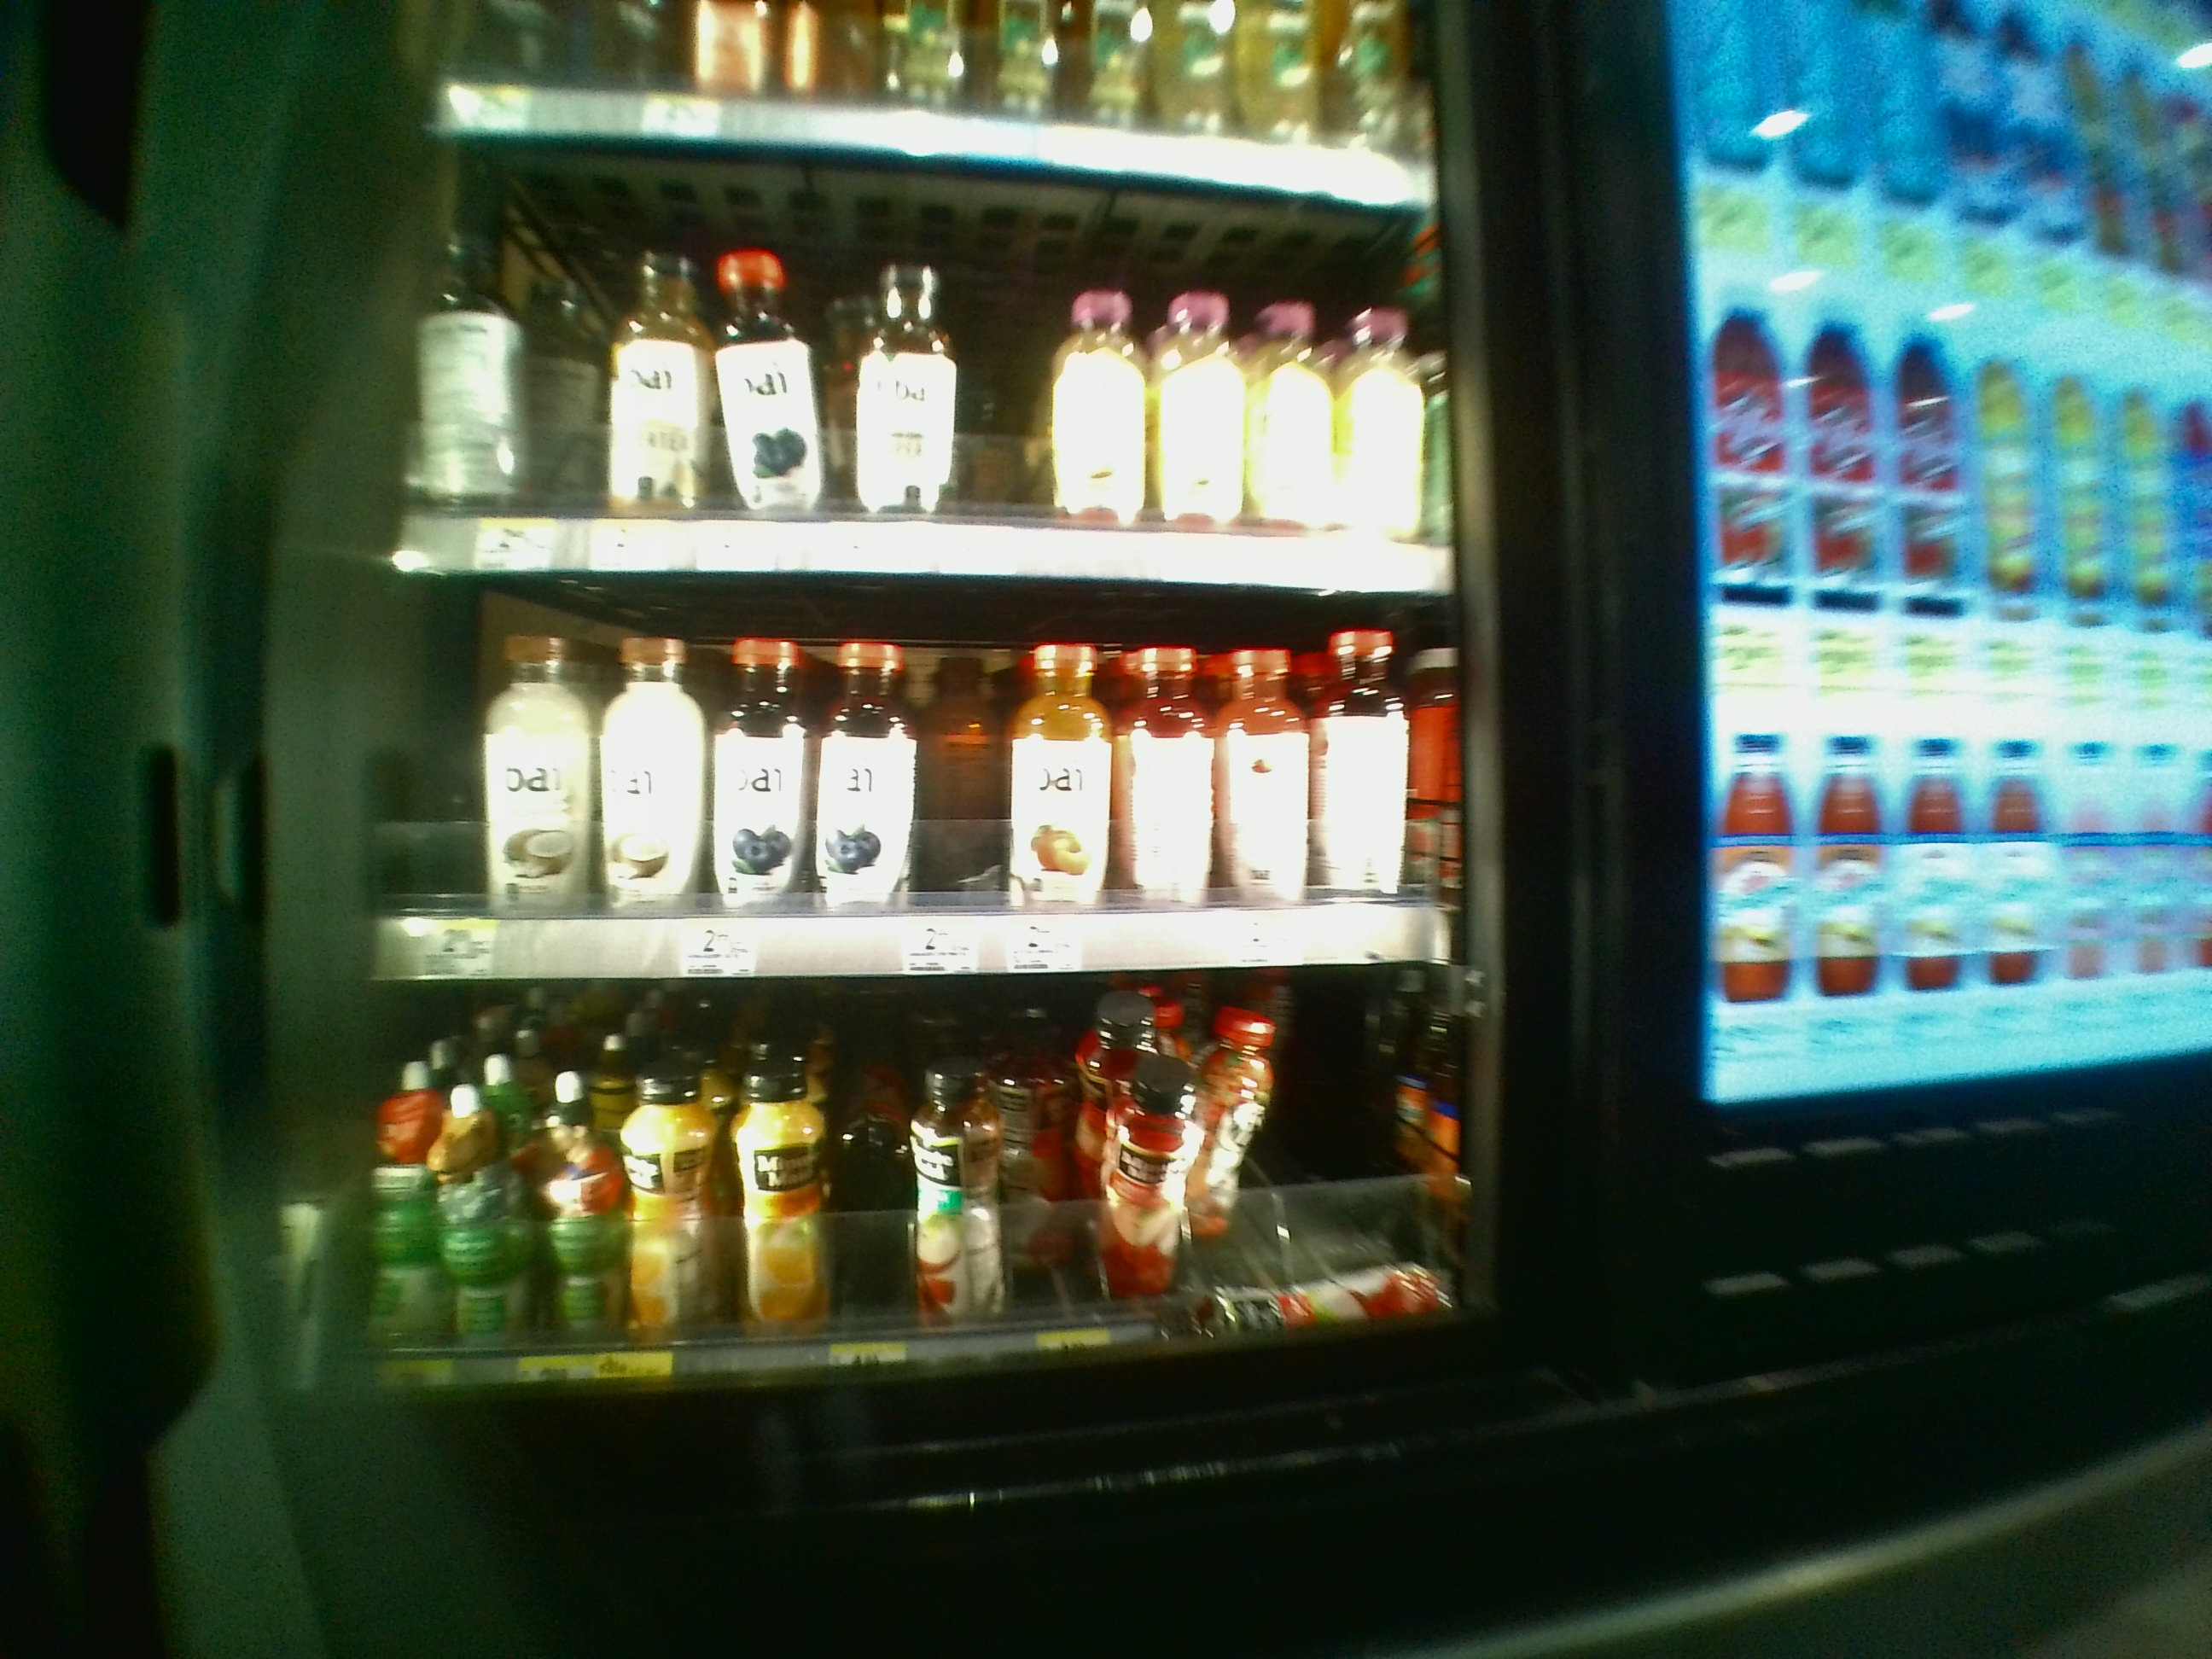shelf: (399, 134, 1463, 579), (371, 985, 1468, 1385), (383, 587, 1465, 978)
